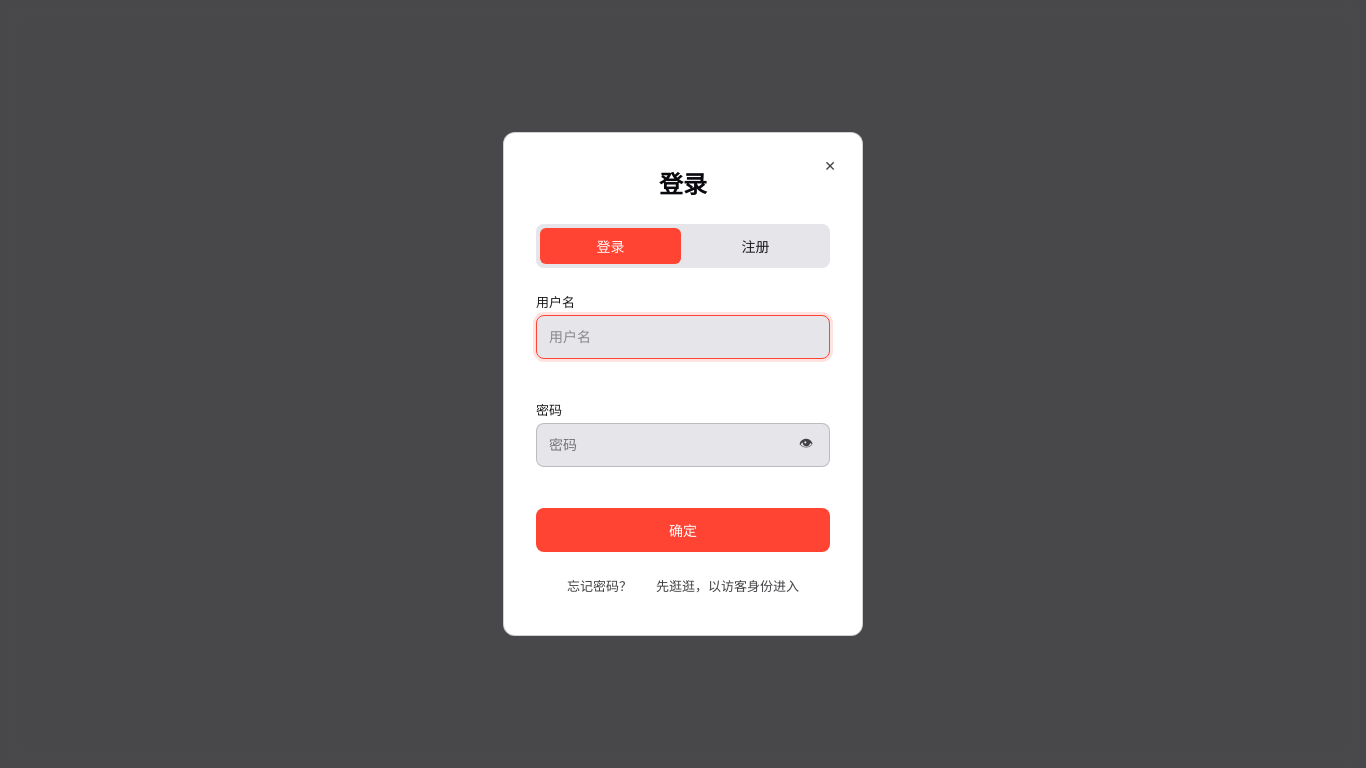
Scenario: AuthDialog › 表单验证 › 注册验证 › 用户名太短时显示长度提示
Click the tab "注册".
click(756, 246)  # box [685,228,826,264]
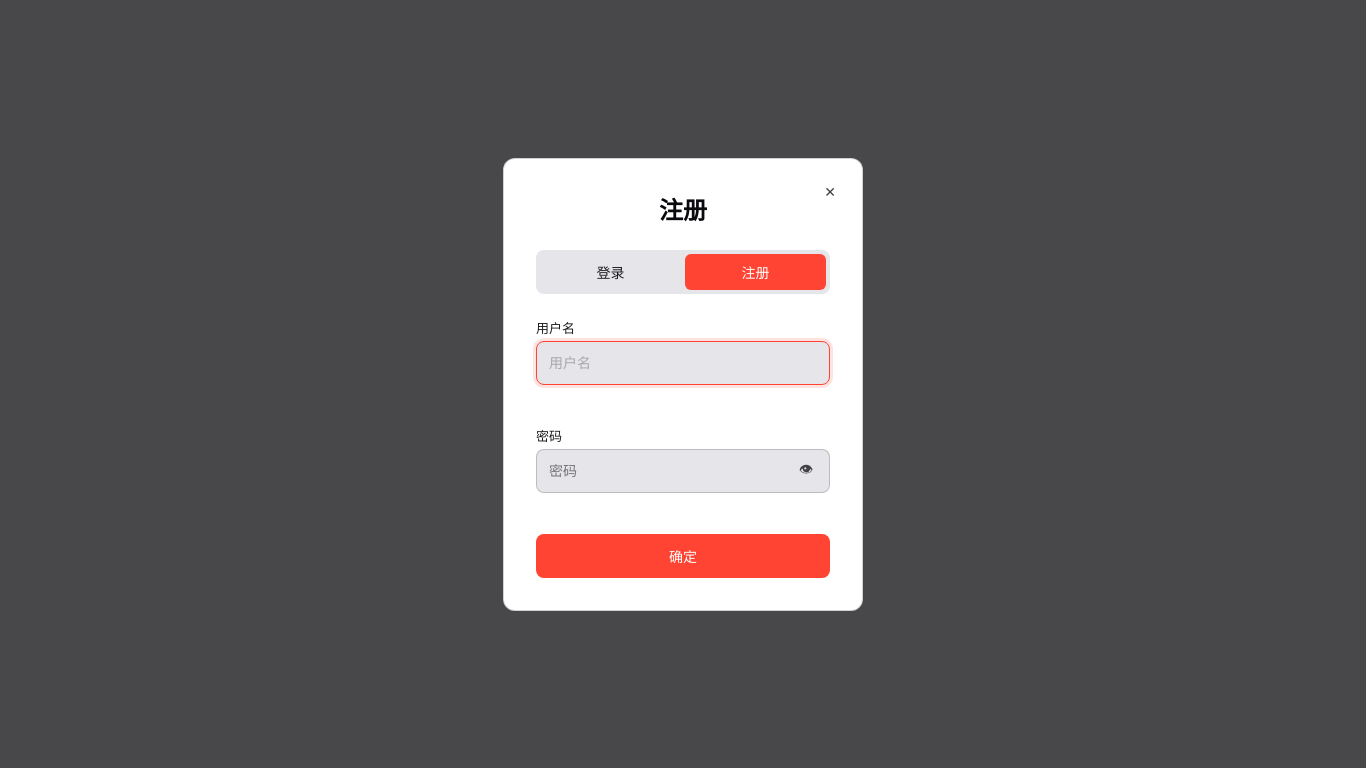
Type "a" into the field with placeholder "用户名".
click(683, 362); type("a")  # box [536,340,830,384]
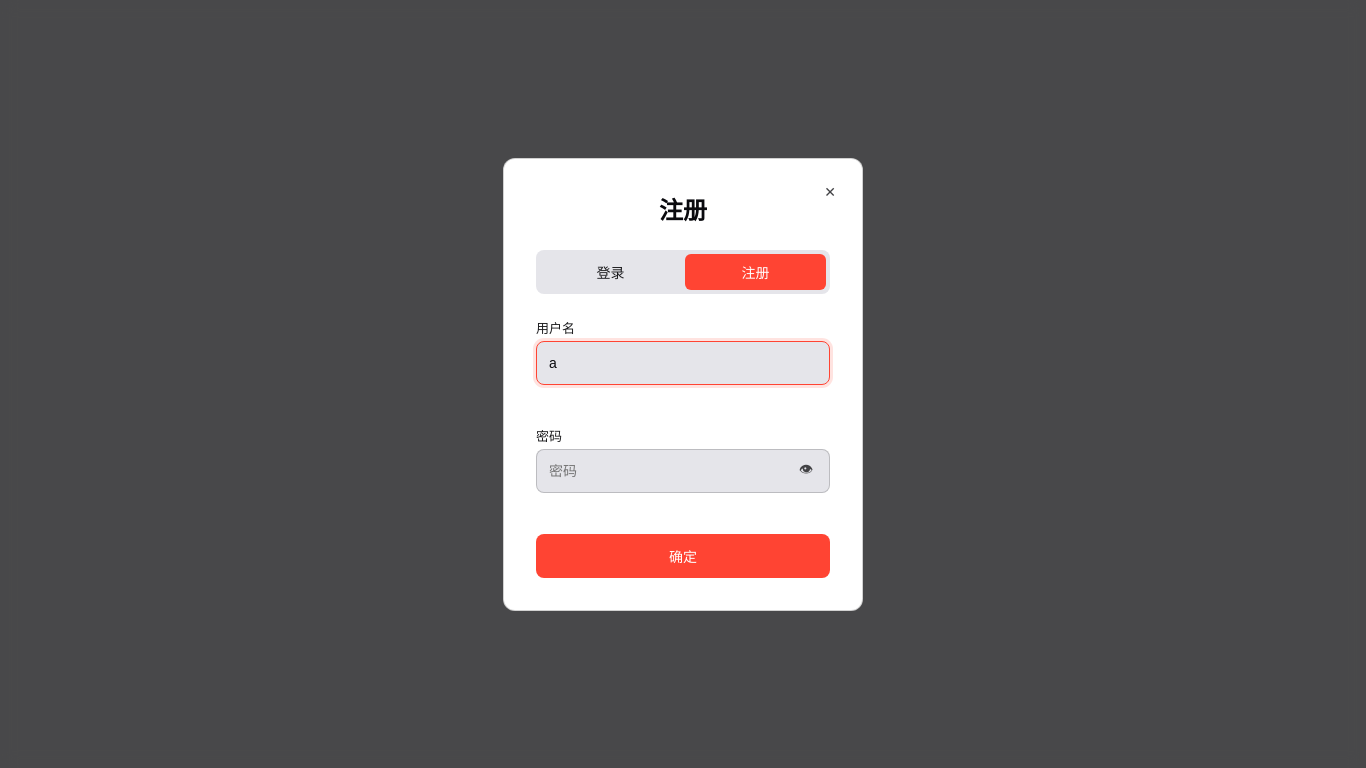
Leave the field with placeholder "用户名", box [536,340,830,384]
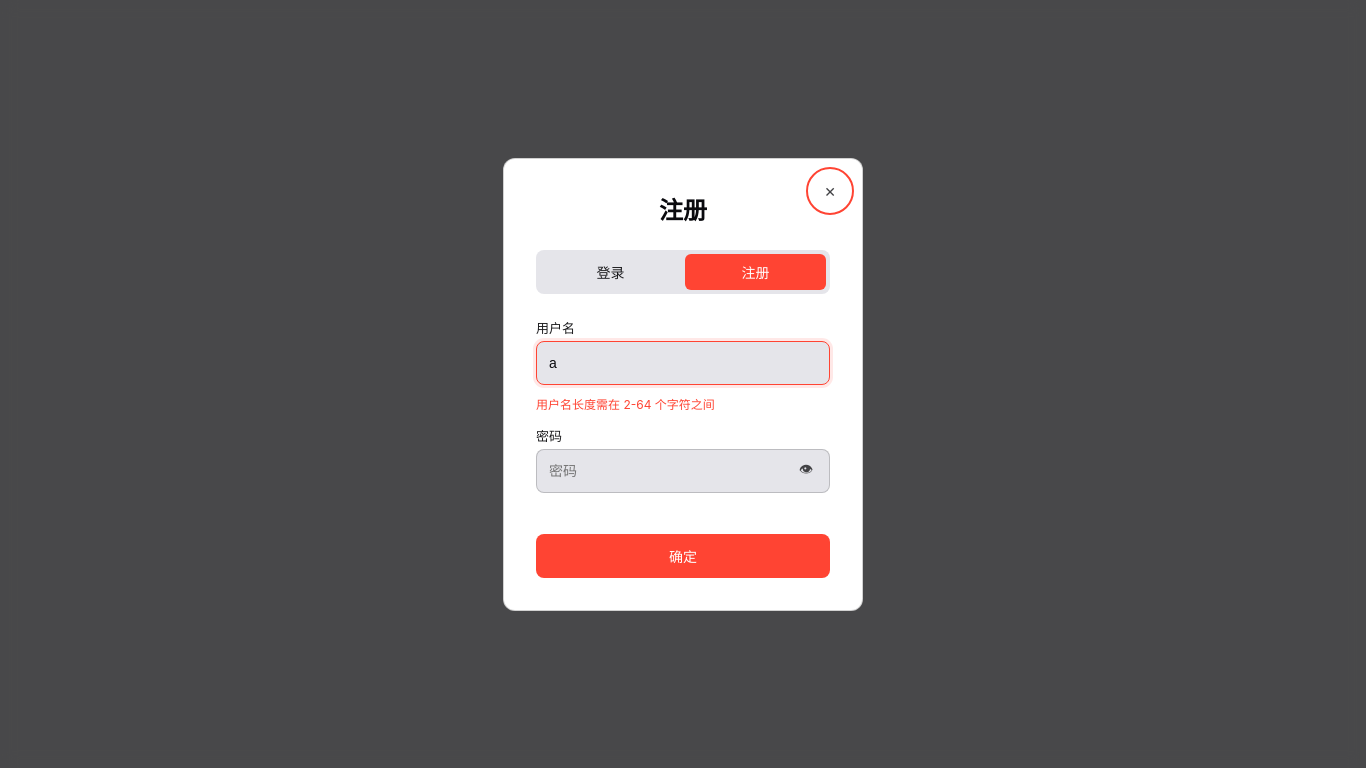
Expected: the text "用户名长度需在 2-64 个字符之间" is shown, [536,396,715,412]
